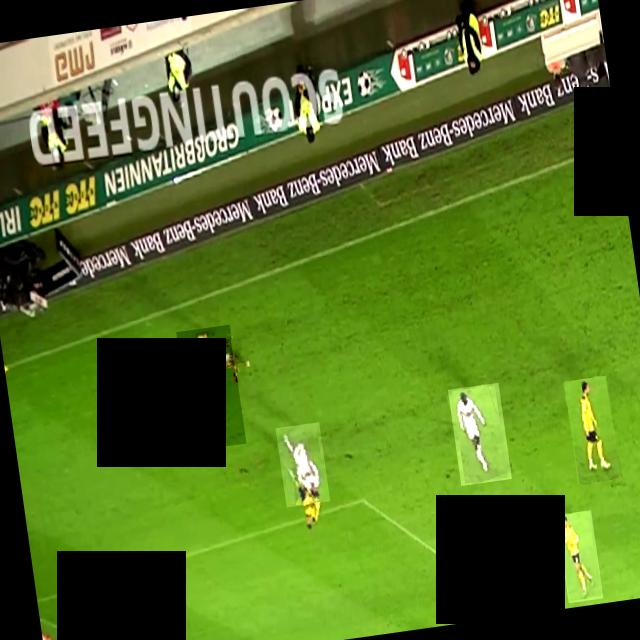ball: (202, 338, 245, 380)
soccer-player: (175, 324, 245, 450), (447, 382, 511, 485), (563, 375, 620, 484), (274, 422, 330, 506), (556, 510, 602, 602), (457, 546, 507, 622), (525, 604, 554, 614)
